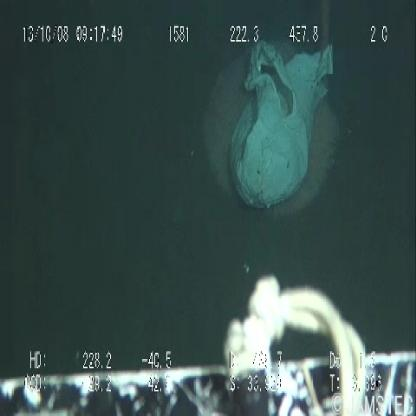Rov: (1, 268, 416, 415)
Rác: (224, 26, 342, 234)
